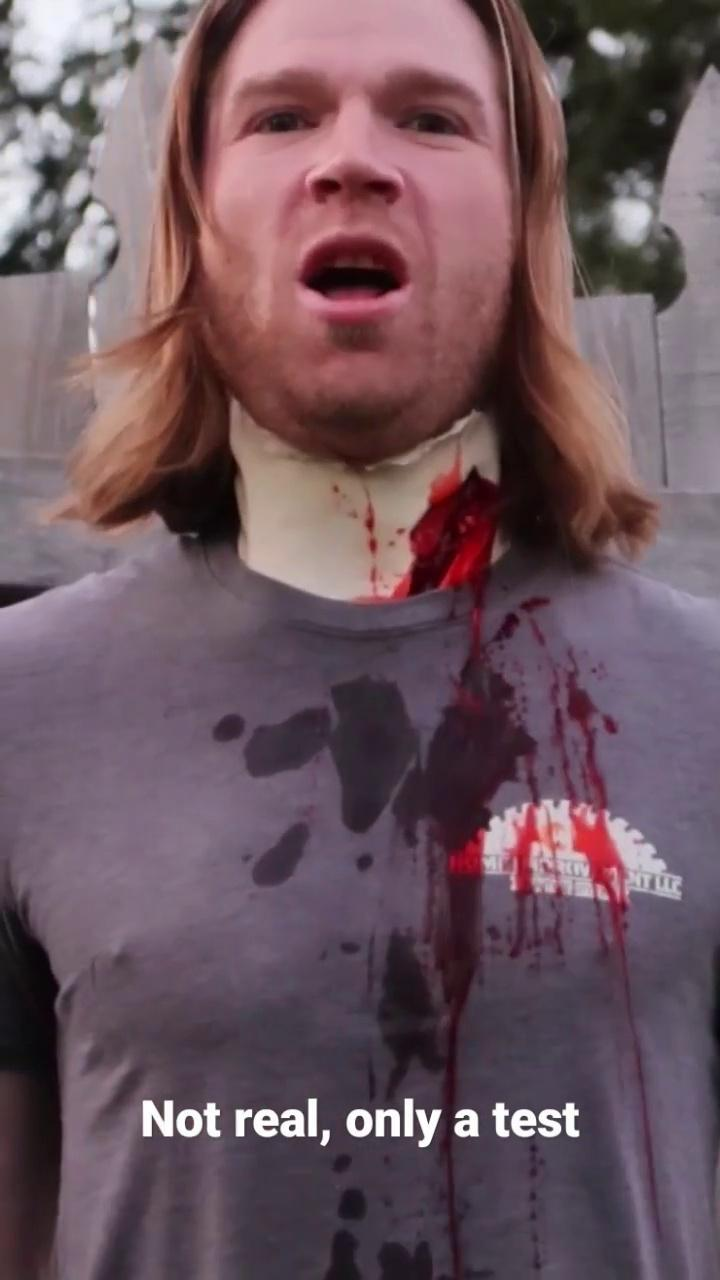Fire: (358, 438, 661, 1280)
